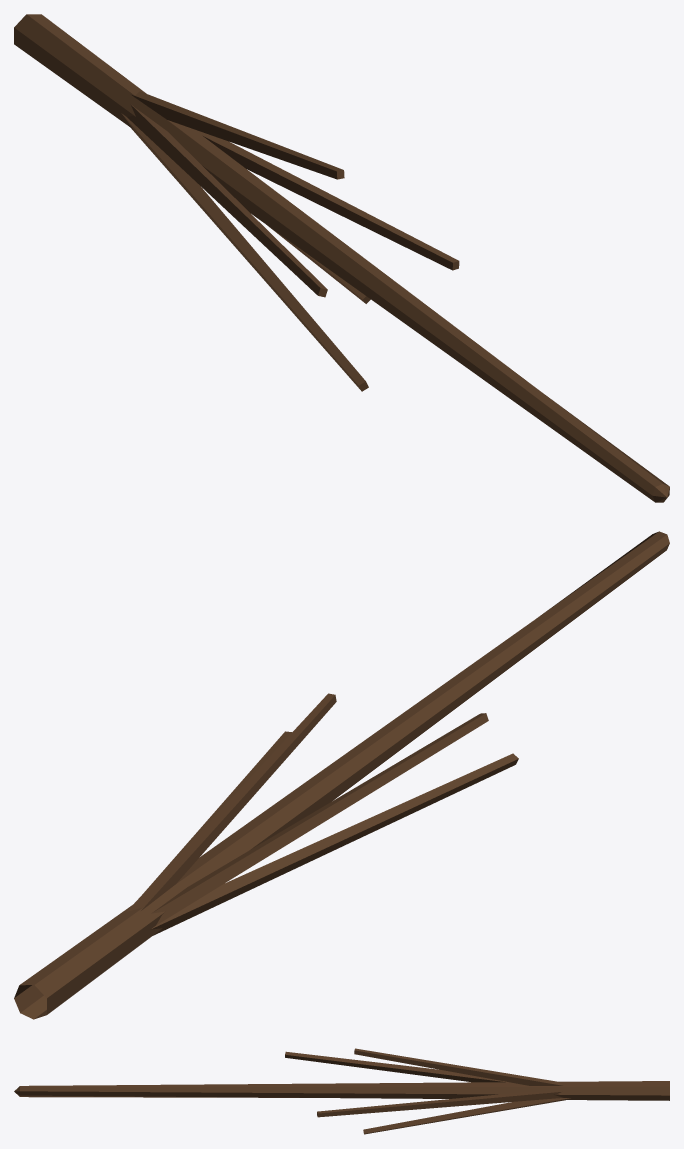
File: dead.glb
3 views of the same model, one above another, from view 1: azimuth 30°, elevation 25°; view 2: azimuth 150°, elevation 25°; view 3: azimuth 270°, elevation 25° (orthographic). The views are drawn at different scales.
Parts seen in each view (by area): view 1: tree_02_dead; view 2: tree_02_dead; view 3: tree_02_dead.
Part boxes in pixels (box(x1,y1,x2,y2)): tree_02_dead: box(14, 14, 669, 502); tree_02_dead: box(14, 531, 669, 1019); tree_02_dead: box(14, 1048, 669, 1134).
Bounding box in the file's own units: 5.07 × 4.17 × 32.42.
